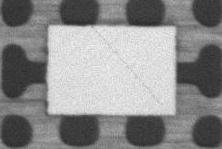DIE_CRACK: (137, 17, 222, 70)
